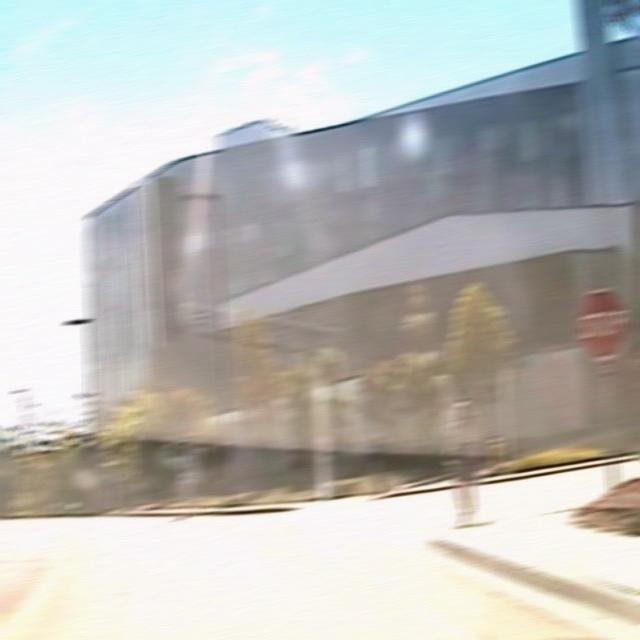stop: (574, 286, 628, 358)
